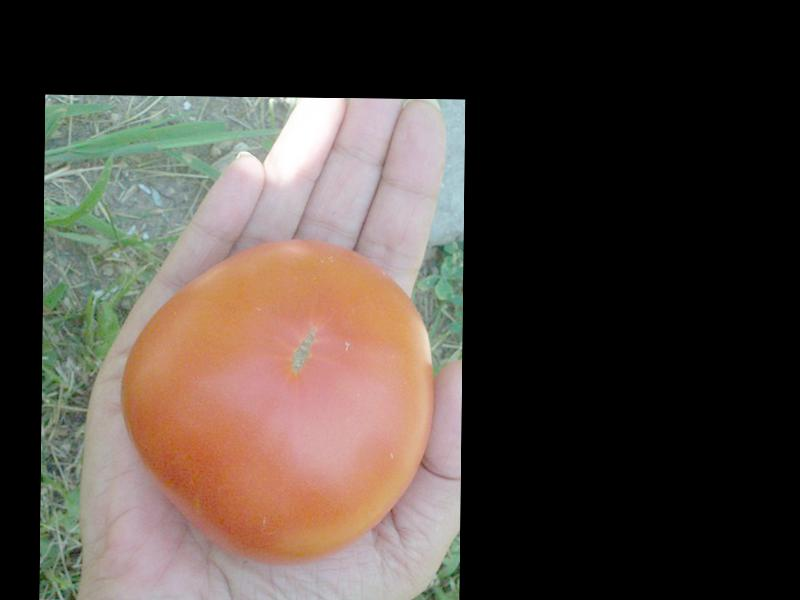Tomato: (119, 238, 435, 562)
